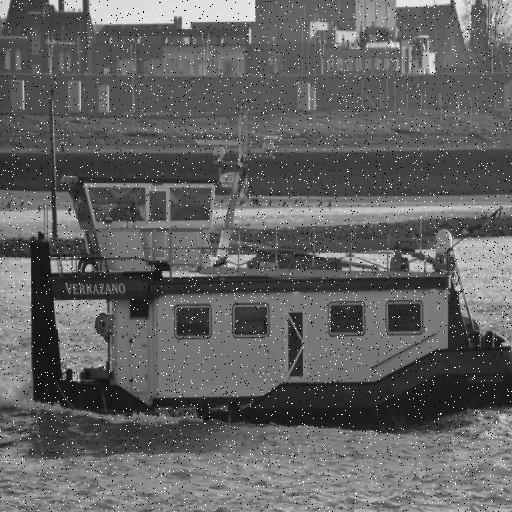tugboat: (26, 132, 512, 440)
